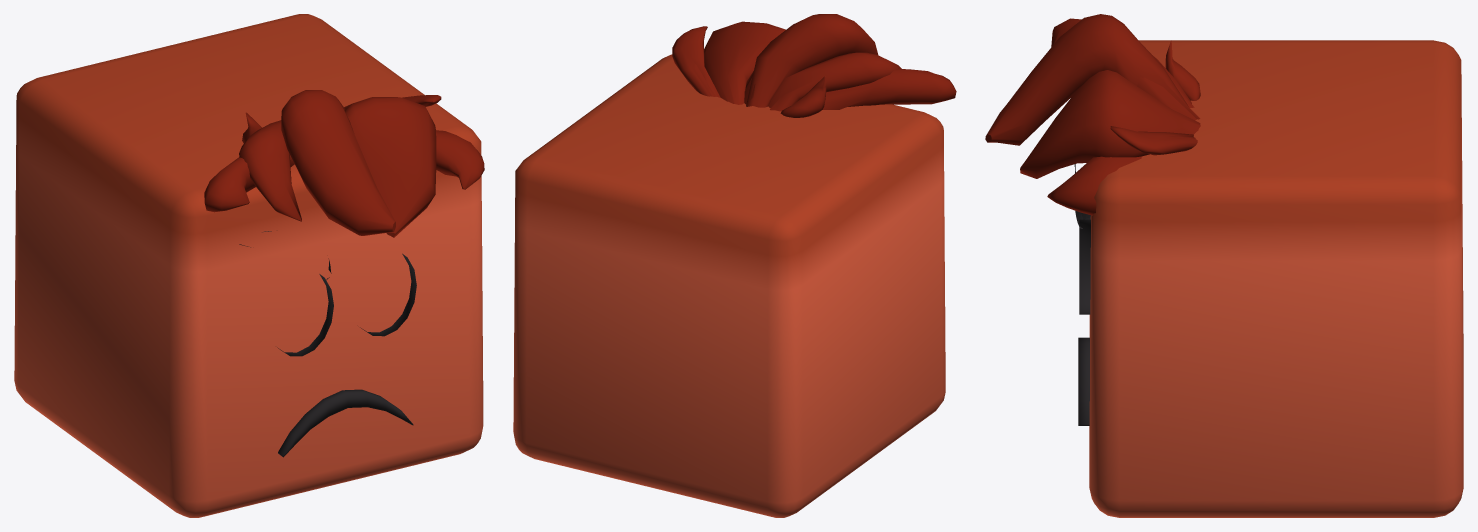
File: Annoyed.fbx
3 views of the same model, side by side, from view 1: azimuth 30°, elevation 25°; view 2: azimuth 150°, elevation 25°; view 3: azimuth 270°, elevation 25° (orthographic). The views are drawn at different scales.
Parts seen in each view (by area): view 1: Annoyed; view 2: Annoyed; view 3: Annoyed.
Part boxes in pixels (x1,y1,x2,y2): Annoyed: (14,14,484,517); Annoyed: (513,14,956,517); Annoyed: (985,14,1463,517).
Bounding box in the file's own units: 451 × 556 × 576.
